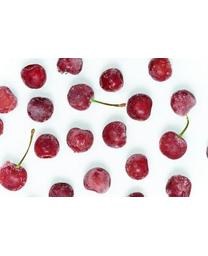cherry: (66, 83, 95, 111), (159, 131, 187, 160), (0, 161, 27, 191), (26, 96, 54, 123), (126, 94, 153, 121), (170, 89, 197, 116), (33, 133, 60, 160), (84, 167, 111, 193), (102, 121, 127, 149), (67, 127, 93, 153), (21, 64, 47, 88), (125, 153, 149, 179), (165, 175, 192, 197), (100, 69, 124, 93), (148, 59, 172, 82), (1, 85, 17, 114), (48, 182, 73, 196)
